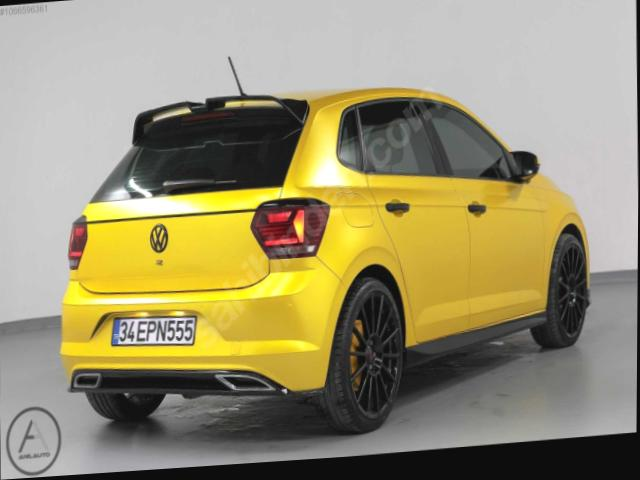plaka: (111, 316, 196, 345)
